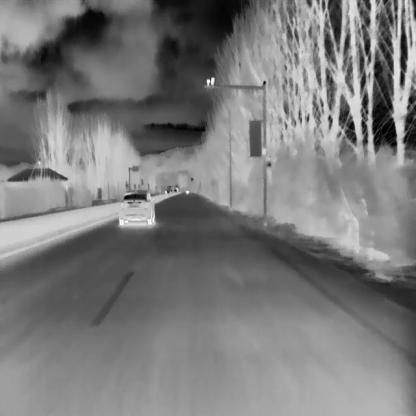car: (118, 189, 154, 225)
